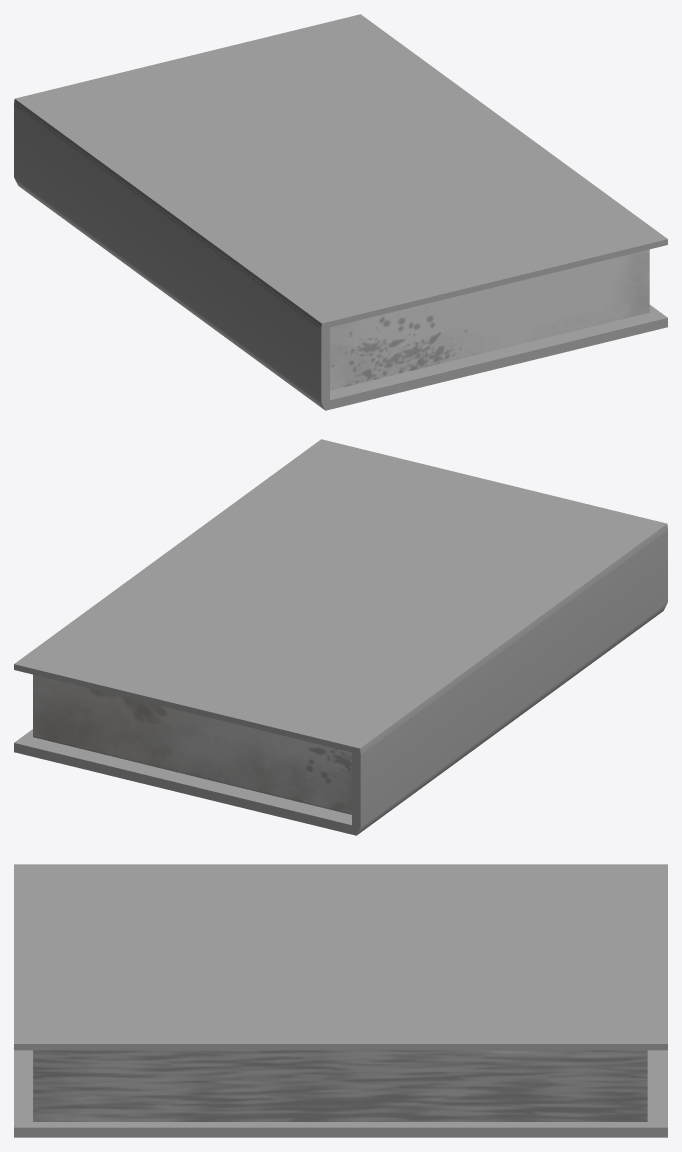
Rendered from bookfin.fbx.
The picture shows the model from 3 angles, top to bottom: view 1: azimuth 30°, elevation 25°; view 2: azimuth 150°, elevation 25°; view 3: azimuth 270°, elevation 25°; orthographic projection. The views are drawn at different scales.
Visible parts, largest first — view 1: frontcover, backcover, inside; view 2: frontcover, backcover, inside; view 3: frontcover, inside, backcover.
Part boxes in pixels (<box>): frontcover: <box>14,14,667,329</box>; backcover: <box>14,102,667,410</box>; inside: <box>330,249,649,390</box>; frontcover: <box>14,439,667,753</box>; backcover: <box>14,527,667,835</box>; inside: <box>33,674,351,814</box>; frontcover: <box>14,864,667,1050</box>; inside: <box>33,1050,647,1121</box>; backcover: <box>14,1050,667,1137</box>.
Size of the model in its own units: 4.4 by 1.07 by 6.75.
2 materials, 1 textured.
